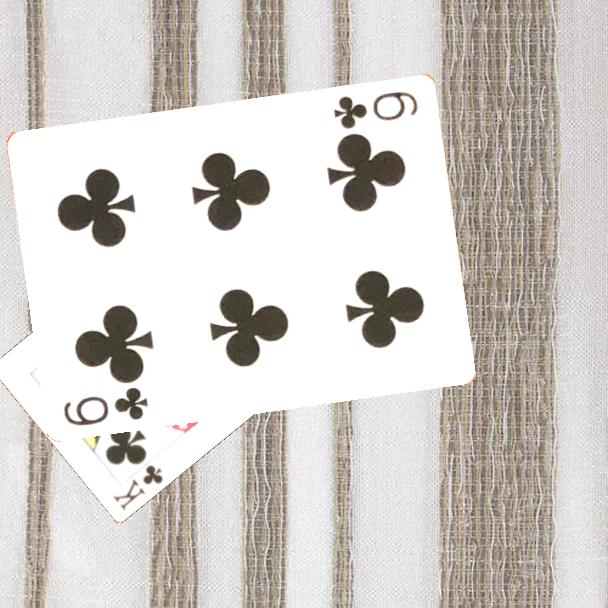c06: (60, 383, 151, 429), (331, 87, 421, 132)
c13: (110, 461, 166, 513)
